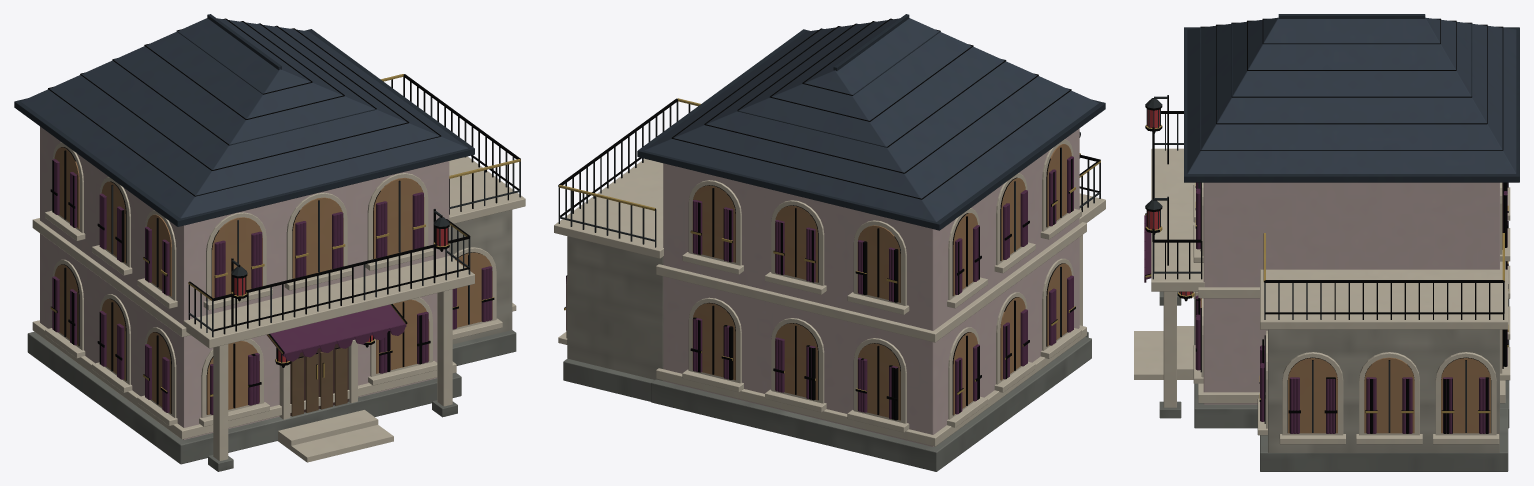
File: VelvetTerrace.fbx
The picture shows the model from 3 angles, left to right: view 1: azimuth 30°, elevation 25°; view 2: azimuth 150°, elevation 25°; view 3: azimuth 270°, elevation 25°; orthographic projection. The views are drawn at different scales.
Parts seen in each view (by area): view 1: VelvetTerrace.001; view 2: VelvetTerrace.001; view 3: VelvetTerrace.001.
Part boxes in pixels (left/top/right/bottom): VelvetTerrace.001: left=14, top=14, right=525, bottom=471; VelvetTerrace.001: left=554, top=14, right=1105, bottom=471; VelvetTerrace.001: left=1134, top=14, right=1519, bottom=471.
Size of the model in its own units: 10.21 by 8.46 by 8.61.
